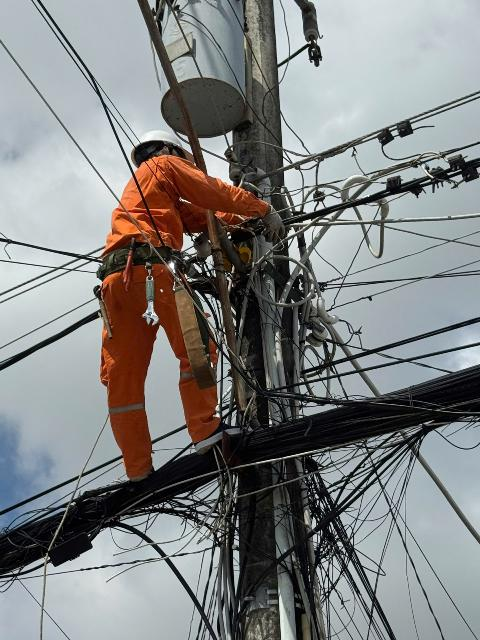gloves: (258, 189, 298, 249)
harness: (71, 226, 222, 286)
helmet: (117, 113, 209, 163)
shoes: (180, 410, 251, 459), (112, 447, 169, 494)
